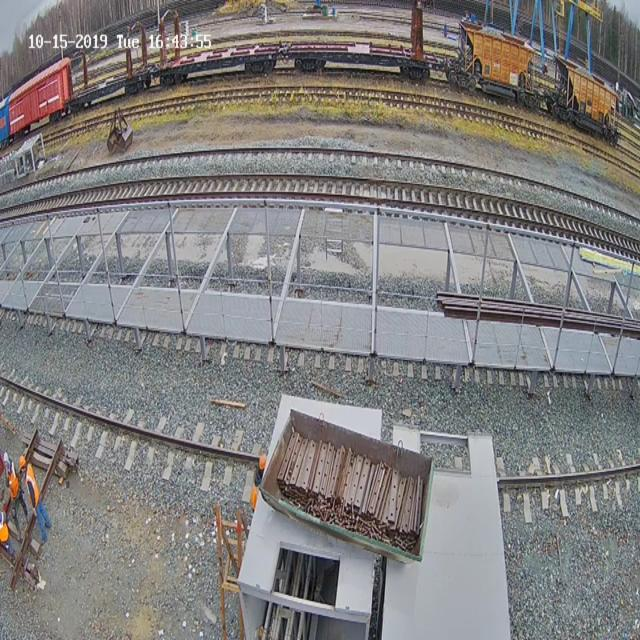Helmet: (19, 455, 26, 469)
Person: (19, 455, 52, 545), (0, 449, 26, 544), (252, 455, 268, 503)
